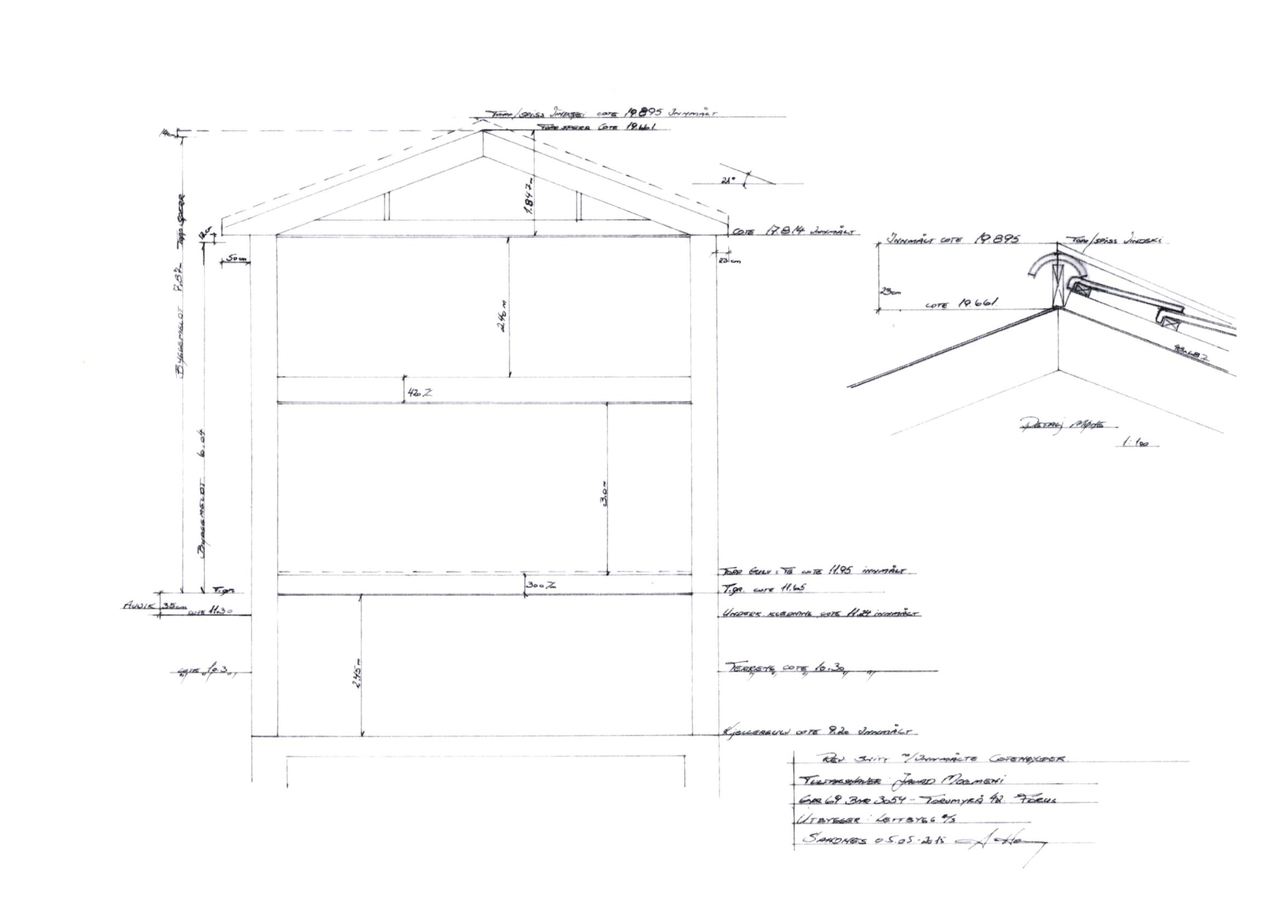snitt: (214, 113, 734, 804)
